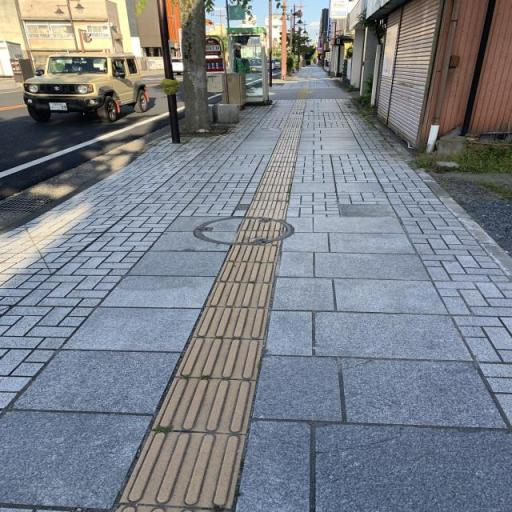line: (119, 430, 249, 509), (148, 377, 258, 435), (172, 337, 265, 379), (190, 308, 269, 340), (201, 282, 272, 308), (216, 261, 275, 282), (223, 244, 280, 263)
